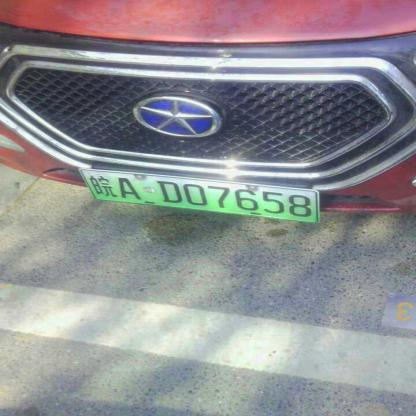lp: (77, 169, 318, 223)
